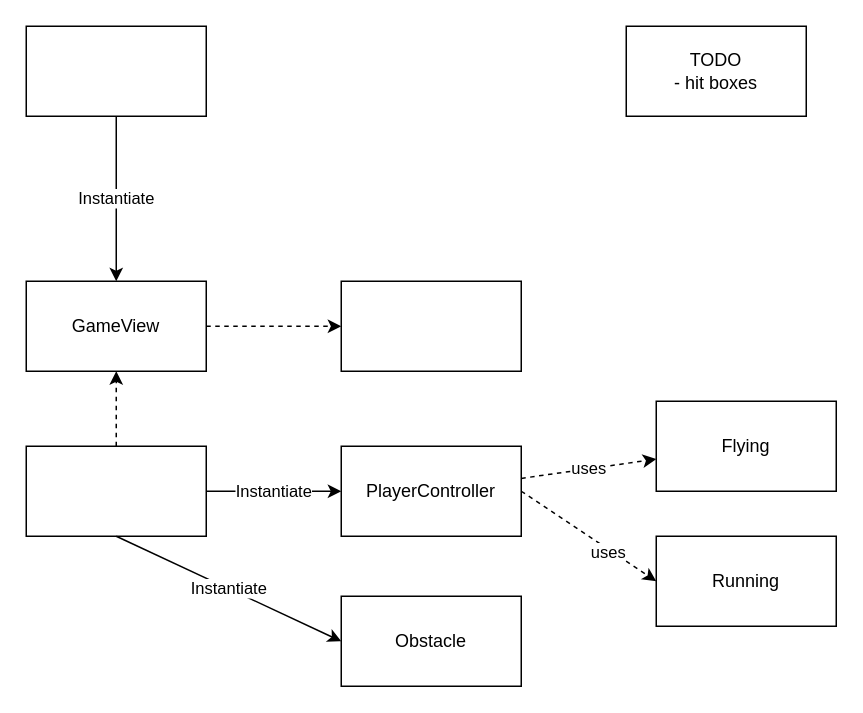
The diagram is 863 pixels wide and 713 high, and some of its shapes have lost their labels. The shapes that lost their labels are listed below. From the top down, each one's centre as x and y in pixels, then its label:
At (115,70): "Main".
At (430,325): "PlayerView".
At (115,490): "GameController".
